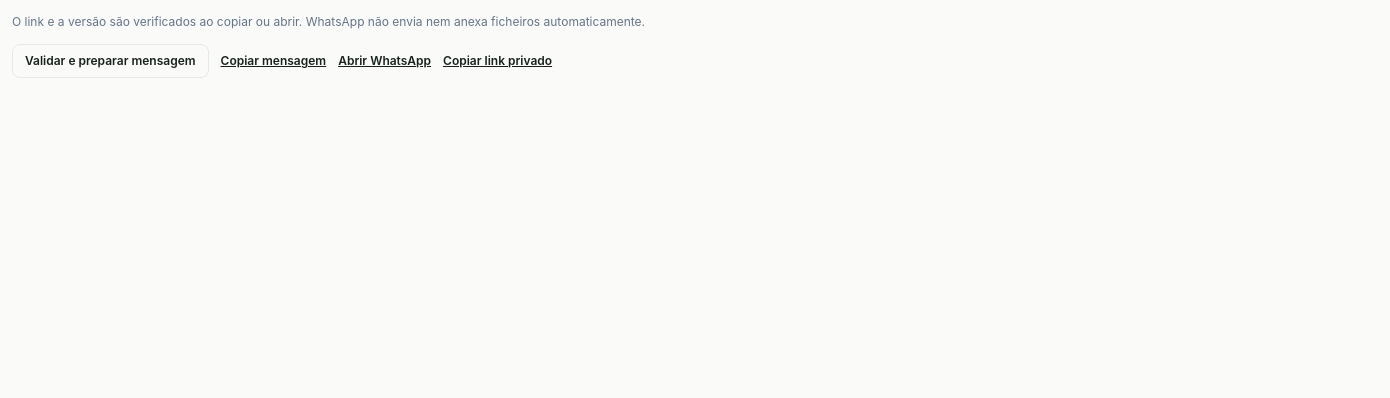
Test: Validated review sharing › checks the server on every copy and blocks stale links after the panel is left open
The image size is (1390, 398).
Click the button "Copiar mensagem".
click(273, 61)  # box x1=221 y1=44 x2=326 y2=78
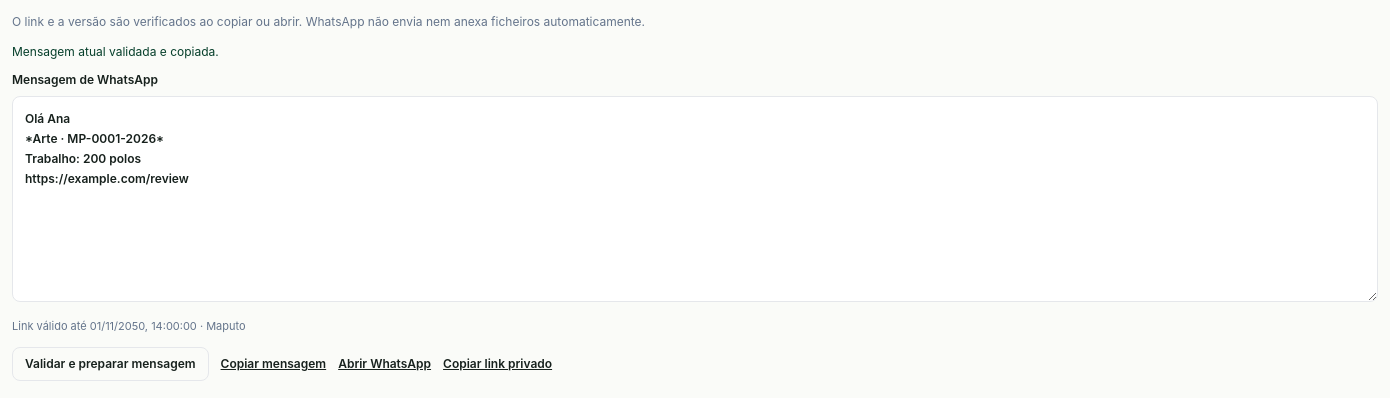
Click the button "Copiar mensagem".
click(273, 364)  # box x1=221 y1=346 x2=326 y2=380
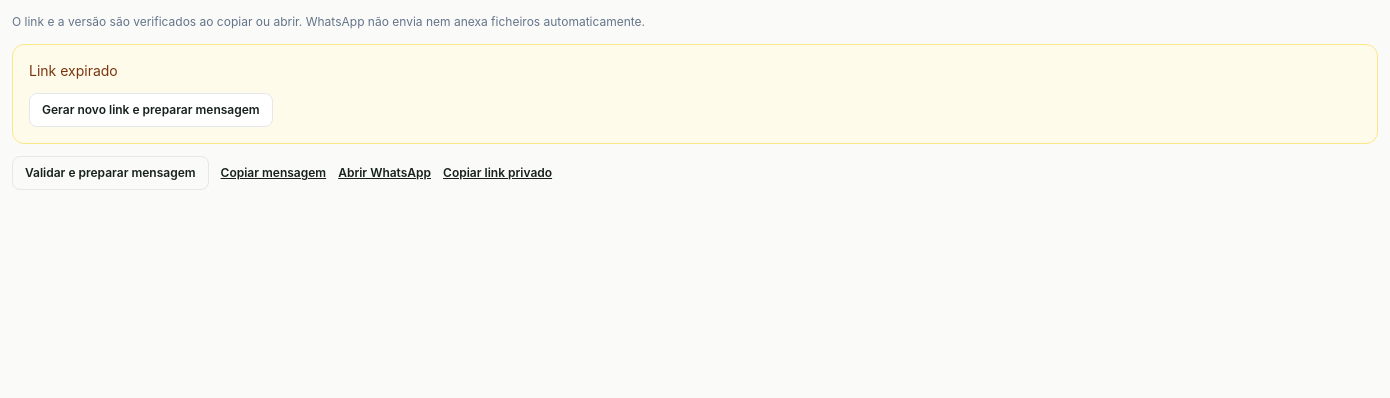
Result: the text "Link expirado" is shown at x1=29 y1=62 x2=118 y2=79
Result: the label labelled "Mensagem de WhatsApp" is gone
